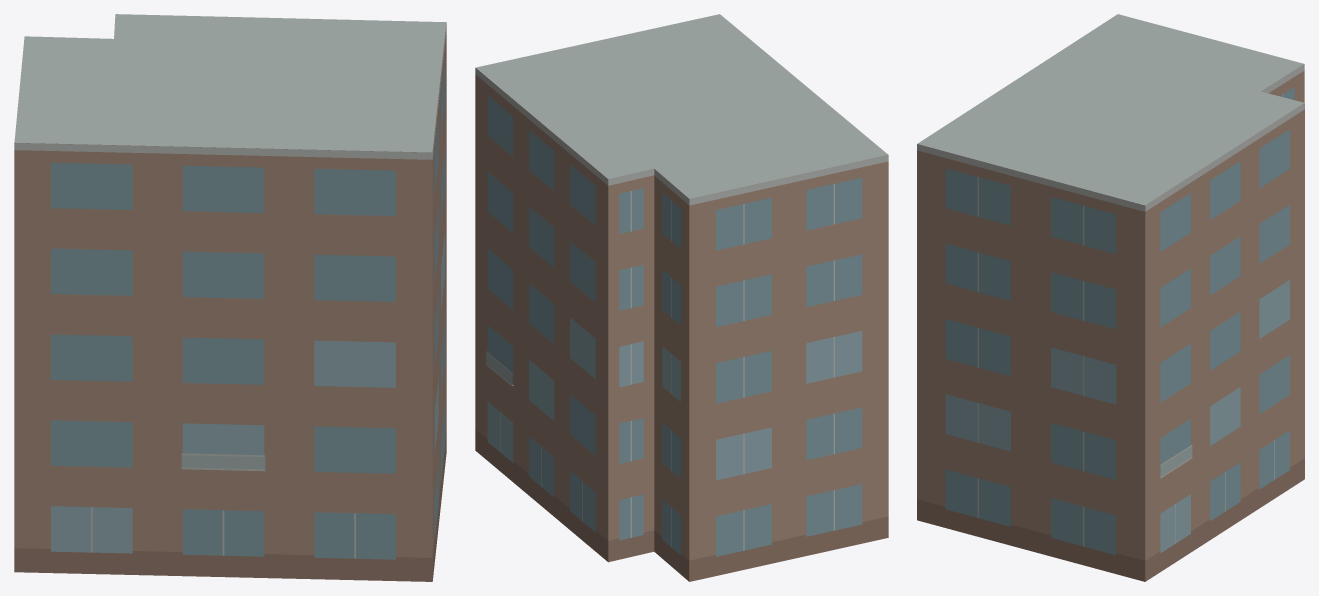
The model's file is survey-upis-32748811.glb.
The picture shows the model from 3 angles, left to right: view 1: azimuth 30°, elevation 25°; view 2: azimuth 150°, elevation 25°; view 3: azimuth 270°, elevation 25°; orthographic projection. The views are drawn at different scales.
Visible parts, largest first — view 1: survey-upis-32748811.tmp; view 2: survey-upis-32748811.tmp; view 3: survey-upis-32748811.tmp.
Boxes of the visible parts, x1,y1,x2,y2 form: survey-upis-32748811.tmp: (14, 14, 446, 581); survey-upis-32748811.tmp: (475, 14, 888, 581); survey-upis-32748811.tmp: (917, 14, 1304, 581).
Size of the model in its own units: 15.54 by 14.23 by 13.29.
